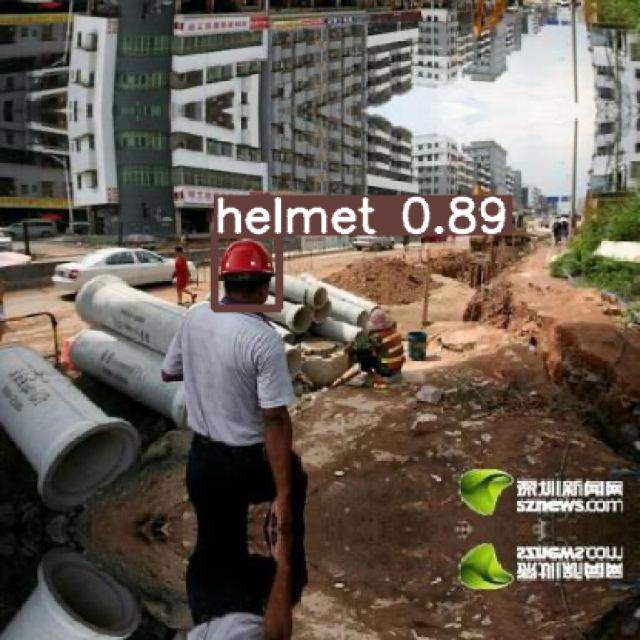helmet: (214, 234, 278, 308)
